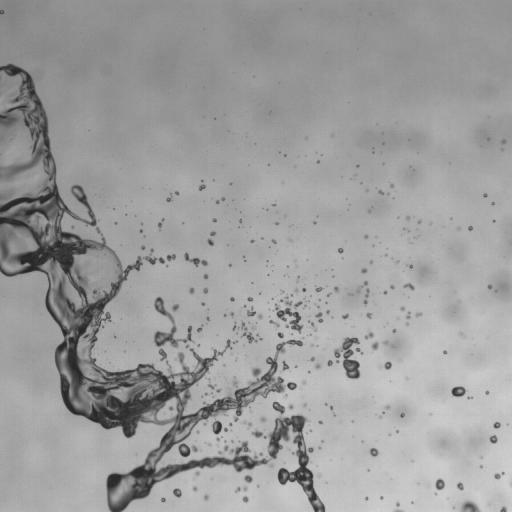droplet: (333, 337, 360, 379), (273, 295, 303, 332), (247, 308, 262, 319), (451, 386, 466, 396), (435, 478, 444, 490), (393, 502, 403, 511), (371, 341, 379, 351), (369, 448, 378, 456), (173, 488, 181, 497), (404, 283, 414, 290), (315, 312, 322, 322), (494, 472, 504, 479), (383, 361, 391, 369), (489, 435, 497, 443), (244, 474, 252, 482), (282, 361, 289, 370), (365, 332, 373, 339), (172, 304, 179, 311), (199, 183, 205, 190), (207, 238, 213, 245), (493, 422, 500, 428), (457, 483, 463, 490), (277, 332, 283, 338), (315, 363, 321, 369), (260, 416, 266, 422), (242, 496, 248, 502), (315, 287, 322, 292), (166, 196, 171, 202), (361, 268, 367, 273), (334, 286, 339, 292), (197, 326, 202, 332), (204, 494, 209, 500), (500, 506, 506, 511), (406, 312, 410, 319), (338, 248, 343, 253), (189, 288, 194, 293), (366, 313, 371, 318), (327, 360, 332, 365), (288, 404, 293, 409), (247, 297, 253, 301), (342, 314, 348, 318), (501, 139, 506, 143), (378, 190, 383, 194), (210, 231, 215, 235), (203, 288, 207, 293), (294, 288, 298, 293), (416, 312, 421, 316), (193, 486, 197, 491), (483, 193, 487, 197), (212, 218, 216, 222), (468, 226, 472, 230), (408, 264, 412, 268), (203, 274, 207, 278), (230, 297, 234, 301), (251, 326, 255, 330), (443, 350, 447, 354), (310, 357, 314, 361), (385, 405, 389, 409), (400, 413, 404, 417), (161, 498, 165, 502), (383, 341, 388, 344), (175, 191, 178, 195), (220, 197, 224, 200), (272, 239, 275, 243), (141, 246, 145, 249), (94, 268, 97, 272), (296, 277, 299, 281), (390, 285, 394, 288), (400, 307, 404, 310), (230, 312, 233, 316), (302, 380, 305, 384), (485, 391, 489, 394), (303, 403, 306, 407), (319, 420, 322, 424), (0, 10, 3, 13), (390, 184, 393, 187), (406, 216, 409, 219), (364, 235, 367, 238), (488, 285, 491, 288), (302, 288, 305, 291), (384, 291, 387, 294), (327, 293, 330, 296), (326, 310, 329, 313), (206, 317, 209, 320), (392, 329, 395, 332), (217, 389, 220, 392), (468, 396, 471, 399), (330, 406, 333, 409), (229, 423, 232, 426), (204, 393, 208, 395), (216, 201, 219, 203), (418, 220, 420, 223), (139, 230, 142, 232), (251, 240, 254, 242), (281, 290, 283, 293), (202, 302, 204, 305), (406, 322, 408, 325), (207, 443, 210, 445), (365, 497, 368, 499), (370, 261, 372, 263), (243, 305, 245, 307), (303, 305, 305, 307), (317, 306, 319, 308), (317, 473, 319, 475)
ligament: (0, 66, 325, 511), (232, 322, 257, 342), (184, 253, 207, 266), (460, 501, 481, 511), (357, 281, 367, 292), (240, 421, 252, 428), (364, 289, 369, 305), (309, 321, 317, 331), (207, 379, 215, 389), (235, 486, 247, 492), (269, 320, 279, 327), (0, 85, 9, 92), (158, 219, 163, 229), (355, 348, 362, 353), (0, 76, 3, 85), (509, 479, 511, 487)
